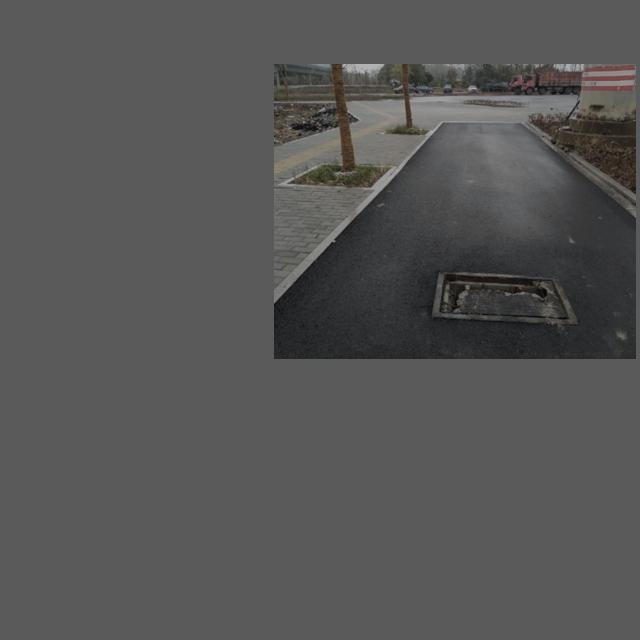broke: (430, 270, 579, 325)
